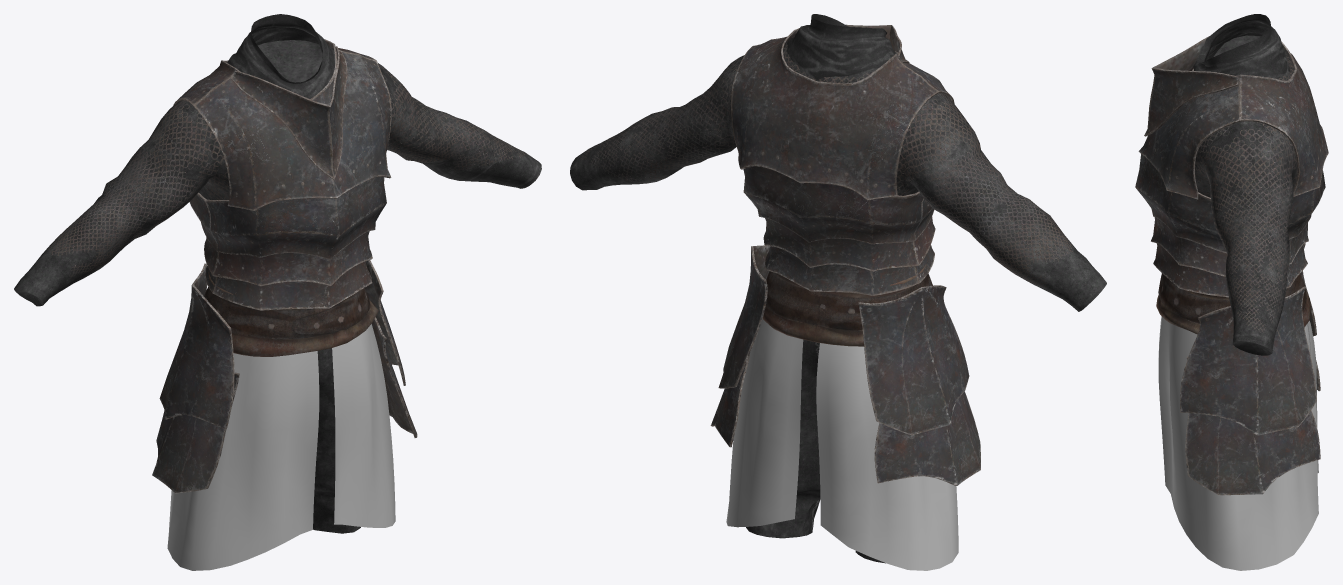
File: sk_dg_uruk_chest_elite_a.fbx
The picture shows the model from 3 angles, left to right: view 1: azimuth 30°, elevation 25°; view 2: azimuth 150°, elevation 25°; view 3: azimuth 270°, elevation 25°; orthographic projection. The views are drawn at different scales.
Parts seen in each view (by area): view 1: sk_dg_uruk_chest_elite_a.2, sk_dg_uruk_chest_elite_a.0, sk_dg_uruk_chest_elite_a.skirt.0, sk_dg_uruk_chest_elite_a.skirt.1, sk_dg_uruk_chest_elite_a.1; view 2: sk_dg_uruk_chest_elite_a.2, sk_dg_uruk_chest_elite_a.0, sk_dg_uruk_chest_elite_a.skirt.0, sk_dg_uruk_chest_elite_a.skirt.1, sk_dg_uruk_chest_elite_a.1; view 3: sk_dg_uruk_chest_elite_a.2, sk_dg_uruk_chest_elite_a.skirt.1, sk_dg_uruk_chest_elite_a.0, sk_dg_uruk_chest_elite_a.skirt.0, sk_dg_uruk_chest_elite_a.1.
Boxes of the visible parts, <box> form: sk_dg_uruk_chest_elite_a.2: <box>173,39,391,310</box>; sk_dg_uruk_chest_elite_a.0: <box>14,14,541,533</box>; sk_dg_uruk_chest_elite_a.skirt.0: <box>167,324,395,570</box>; sk_dg_uruk_chest_elite_a.skirt.1: <box>152,260,417,493</box>; sk_dg_uruk_chest_elite_a.1: <box>204,271,378,356</box>; sk_dg_uruk_chest_elite_a.2: <box>731,24,954,295</box>; sk_dg_uruk_chest_elite_a.0: <box>570,14,1106,563</box>; sk_dg_uruk_chest_elite_a.skirt.0: <box>726,319,958,570</box>; sk_dg_uruk_chest_elite_a.skirt.1: <box>710,245,980,485</box>; sk_dg_uruk_chest_elite_a.1: <box>762,264,932,346</box>; sk_dg_uruk_chest_elite_a.2: <box>1135,36,1328,297</box>; sk_dg_uruk_chest_elite_a.skirt.1: <box>1180,243,1320,495</box>; sk_dg_uruk_chest_elite_a.0: <box>1193,14,1297,355</box>; sk_dg_uruk_chest_elite_a.skirt.0: <box>1158,316,1318,570</box>; sk_dg_uruk_chest_elite_a.1: <box>1156,273,1310,334</box>.
Bounding box in the file's own units: 1.35 × 0.4491 × 1.28.
